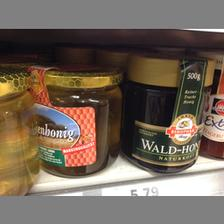Honig: (125, 54, 214, 170), (27, 64, 120, 172)
